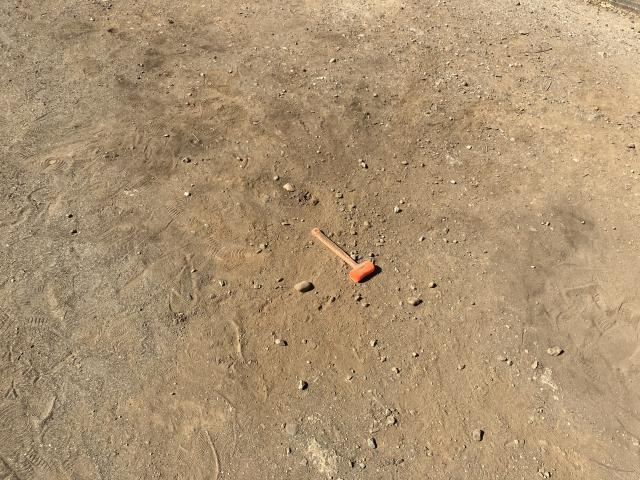hammer: (310, 225, 376, 284)
